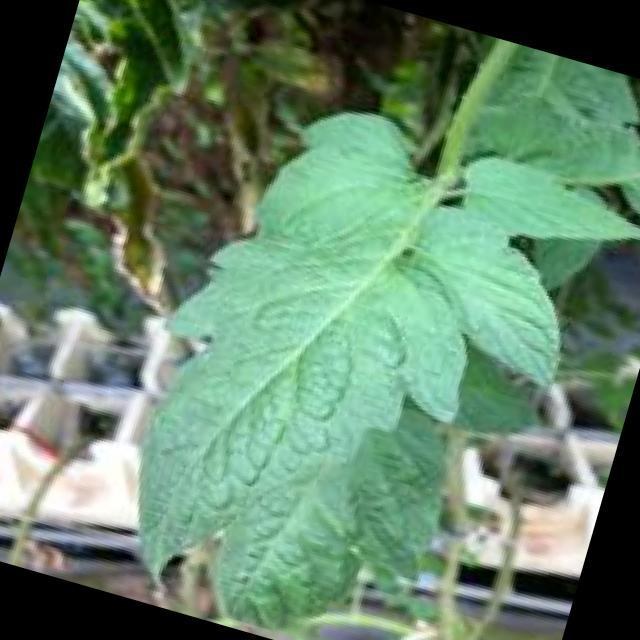Tomato healthy leaf: (137, 110, 640, 632)
